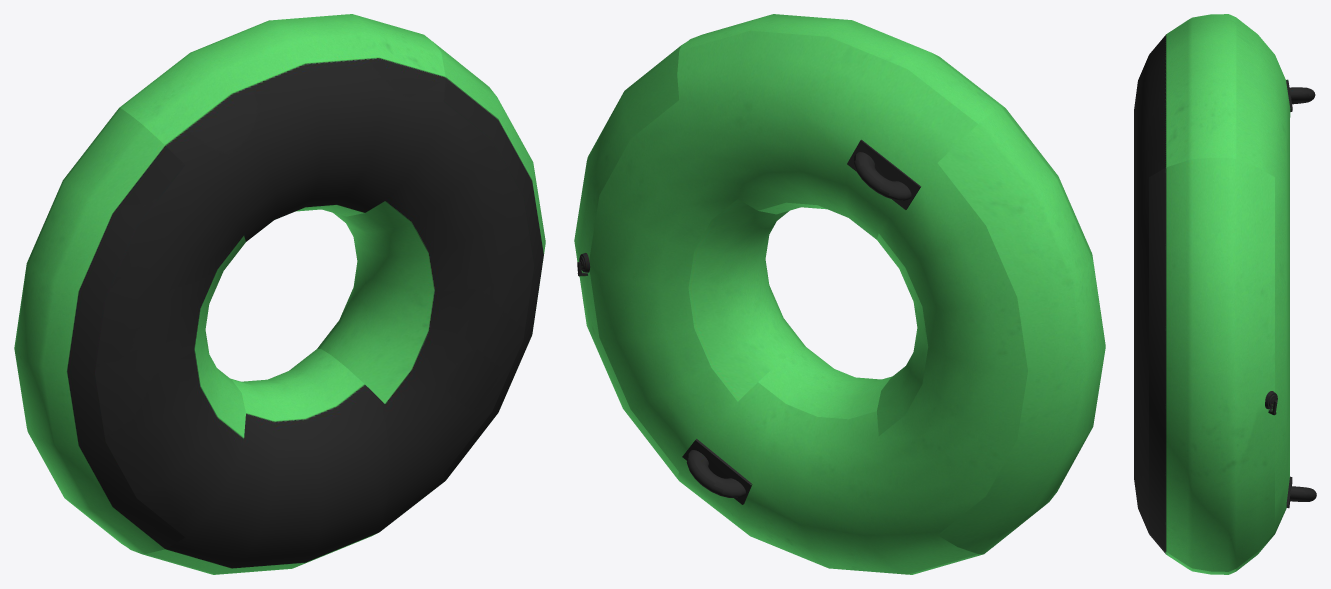
Rendered from Flotador2.fbx.
3 renders of one model, left to right at view 1: azimuth 30°, elevation 25°; view 2: azimuth 150°, elevation 25°; view 3: azimuth 270°, elevation 25°, orthographic. The views are drawn at different scales.
Visible parts, largest first — view 1: polySurface2; view 2: polySurface2; view 3: polySurface2.
Part boxes in pixels (left/top/right/bottom): polySurface2: left=14, top=14, right=545, bottom=574; polySurface2: left=574, top=14, right=1105, bottom=574; polySurface2: left=1134, top=14, right=1316, bottom=574.
Bounding box in the file's own units: 183 × 182 × 58.89.
